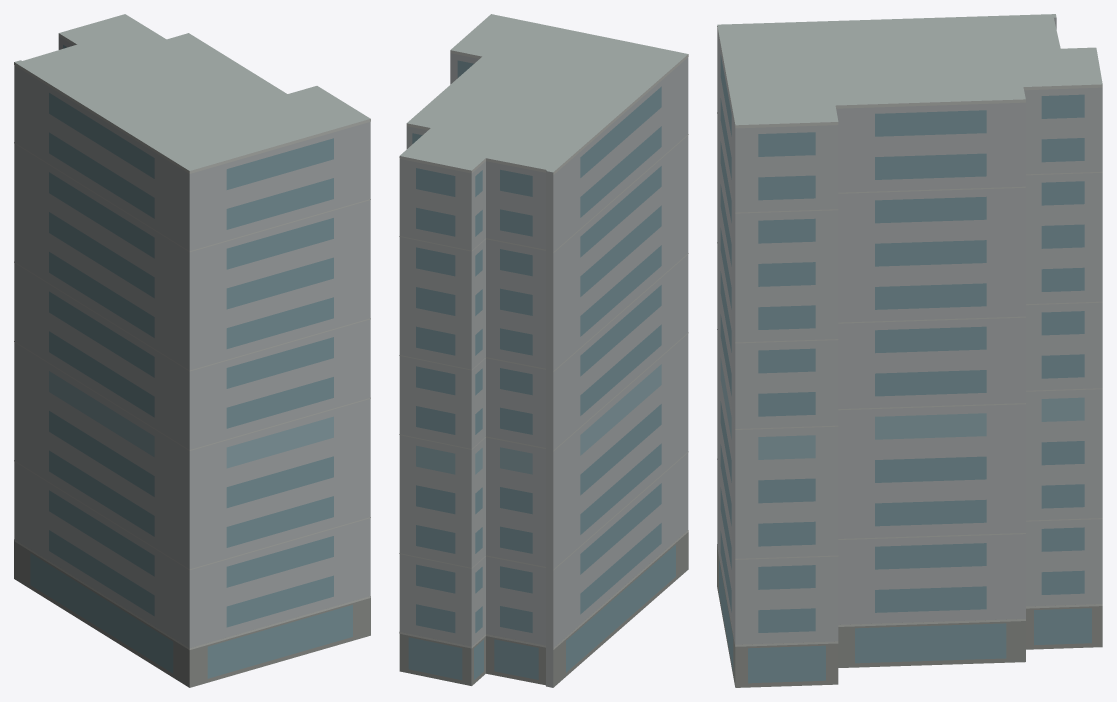
File: survey-upis-32984067.glb
3 views of the same model, side by side, from view 1: azimuth 30°, elevation 25°; view 2: azimuth 150°, elevation 25°; view 3: azimuth 270°, elevation 25° (orthographic). The views are drawn at different scales.
Parts seen in each view (by area): view 1: survey-upis-32984067.tmp; view 2: survey-upis-32984067.tmp; view 3: survey-upis-32984067.tmp.
Boxes of the visible parts, x1,y1,x2,y2 form: survey-upis-32984067.tmp: [14, 14, 370, 687]; survey-upis-32984067.tmp: [399, 14, 688, 687]; survey-upis-32984067.tmp: [717, 14, 1102, 687].
Size of the model in its own units: 18 by 42.4 by 26.35.
